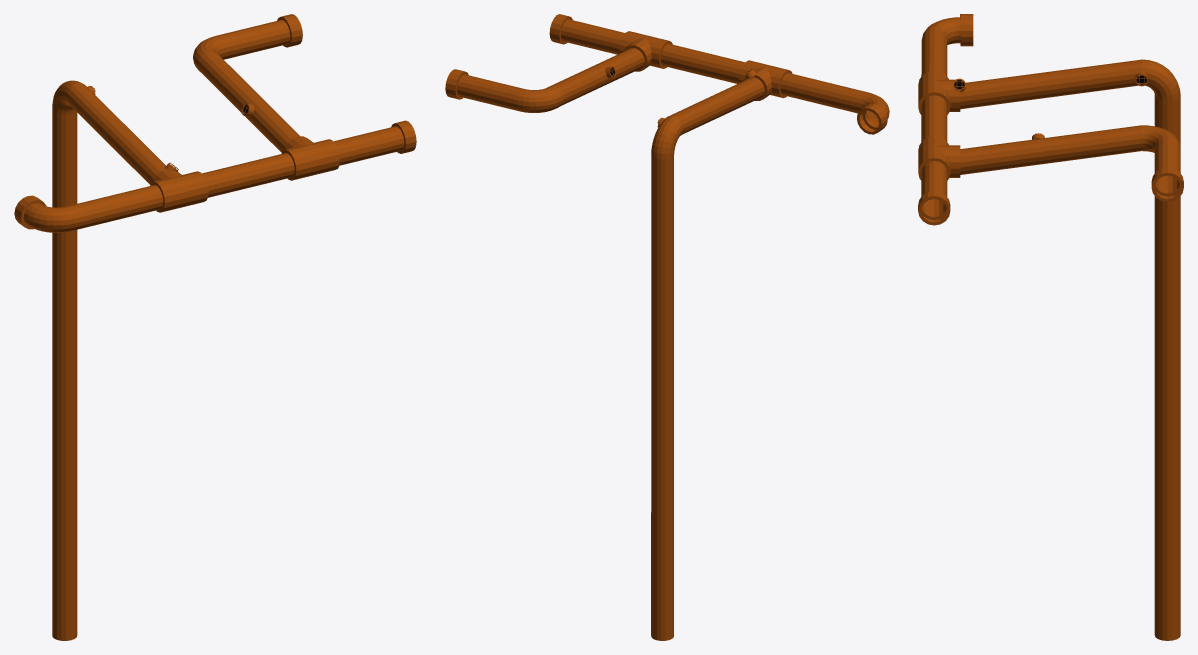
Rendered from Pipe5try1.fbx.
3 views of the same model, side by side, from view 1: azimuth 30°, elevation 25°; view 2: azimuth 150°, elevation 25°; view 3: azimuth 270°, elevation 25° (orthographic). The views are drawn at different scales.
Parts seen in each view (by area): view 1: Top, Bottom; view 2: Top, Bottom; view 3: Top, Bottom.
Boxes of the visible parts, x1,y1,x2,y2 form: Top: [52, 14, 302, 640]; Bottom: [14, 120, 416, 232]; Top: [445, 48, 764, 640]; Bottom: [549, 14, 889, 134]; Top: [960, 59, 1183, 640]; Bottom: [918, 14, 973, 225].
Size of the model in its own units: 1713 by 2459 by 1026.
